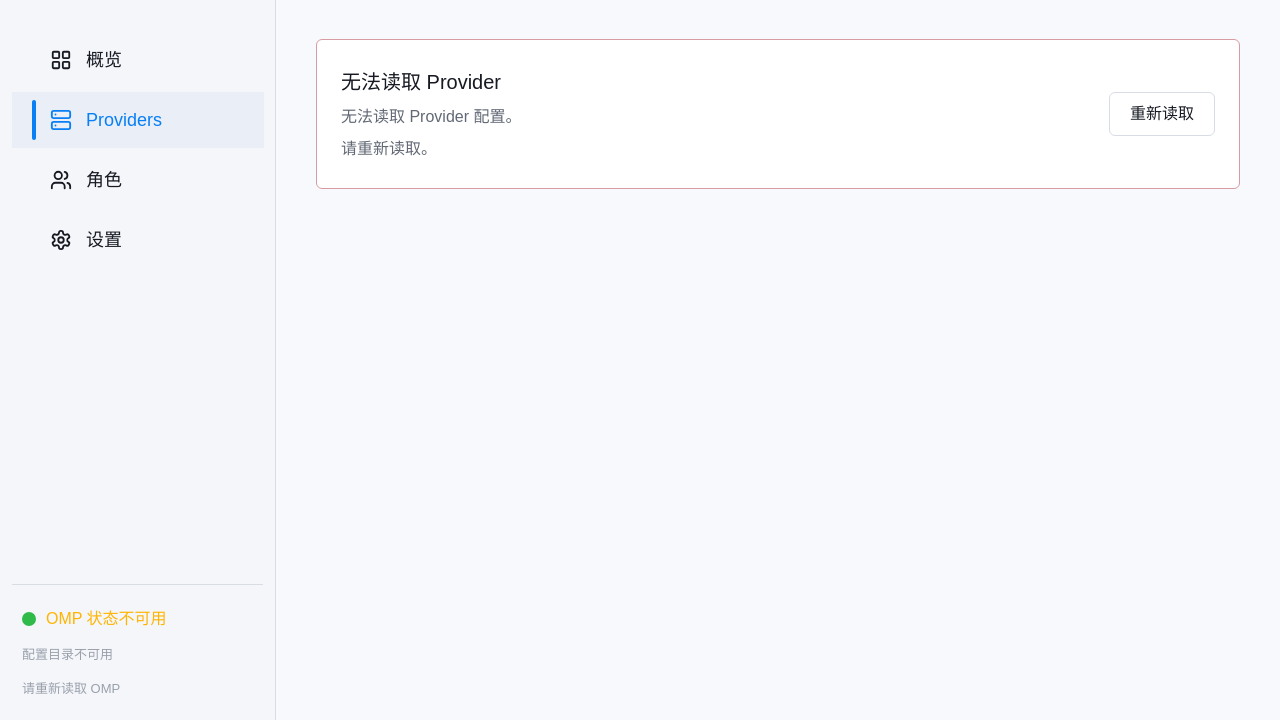
it: React page seam › retries a failed Provider detail read
Check: the message shows "无法读取 Provider 配置。", box [341, 108, 522, 125]
Click the button "重新读取".
click(1162, 114)  # box [1109, 92, 1215, 136]
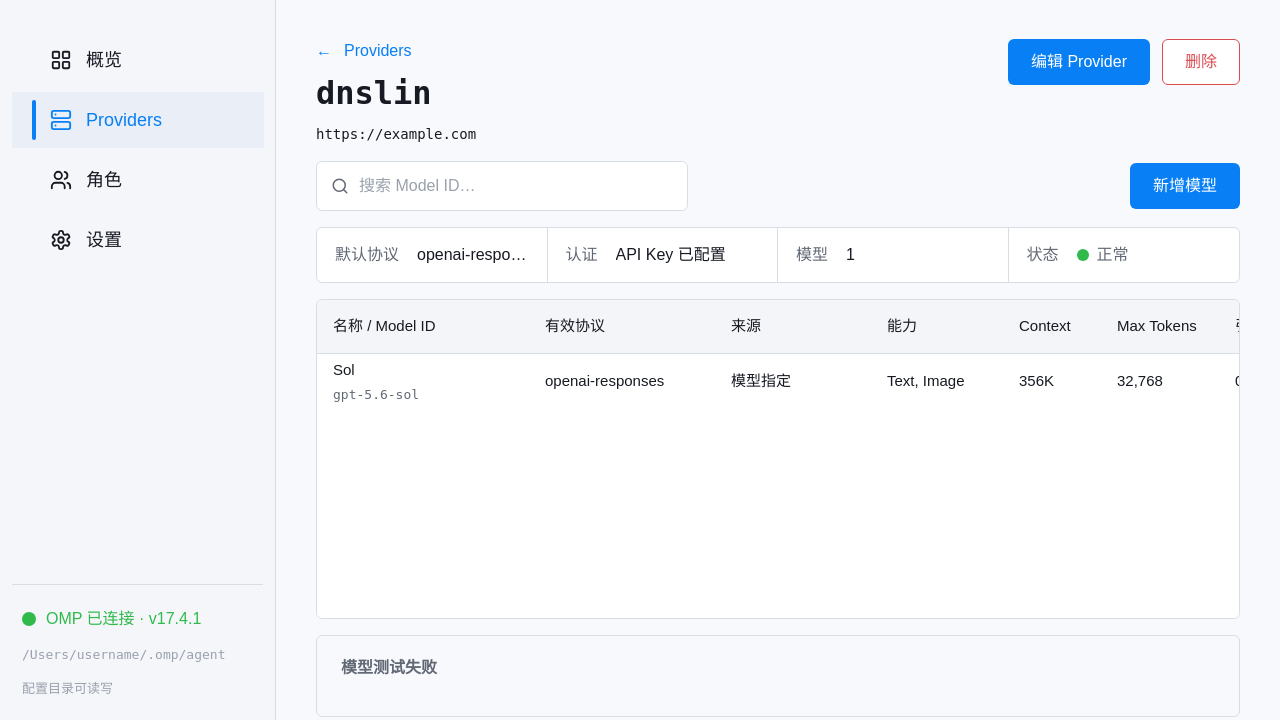
Check: the heading "dnslin" is shown, box [316, 74, 432, 112]
